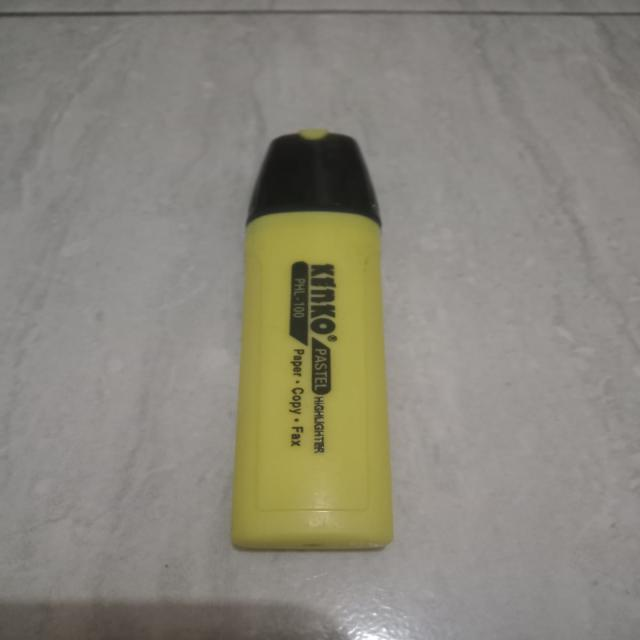highlighter: (187, 114, 472, 582)
